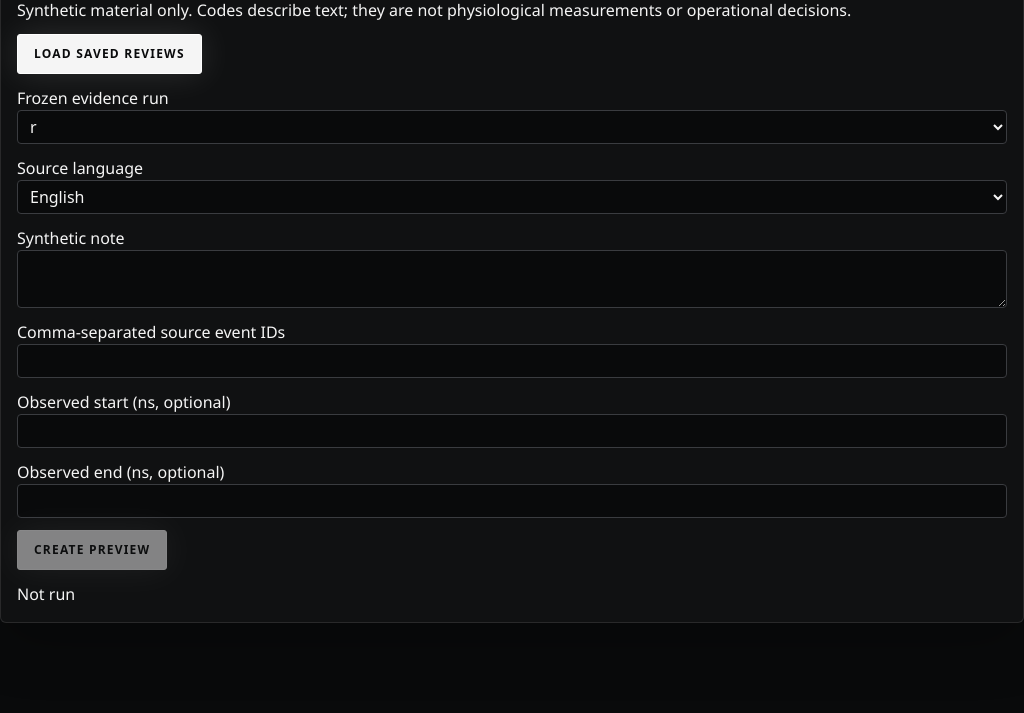
Scenario: experimental semantic review › removes exposed reference labels before changing reviewer
This screenshot has width=1024, height=713.
Step 1. Click the button "Load saved reviews" → (109, 54), box [17, 34, 202, 74]
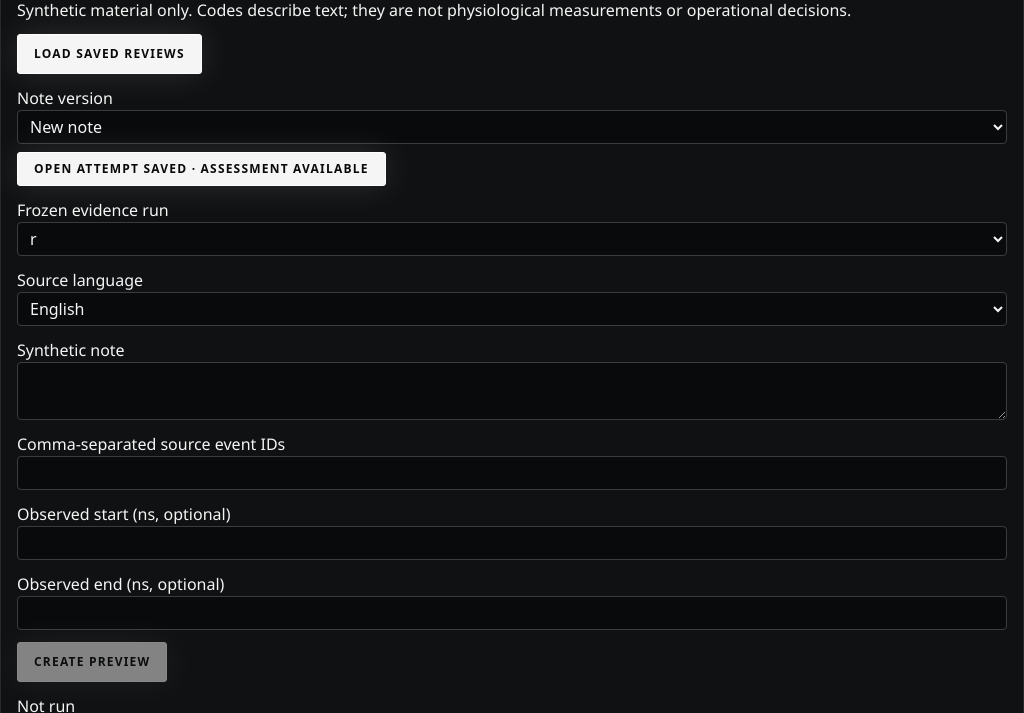
Step 2. Click the button "Open attempt saved · Assessment available" → (201, 169), box [17, 152, 386, 186]
(page scrolled)
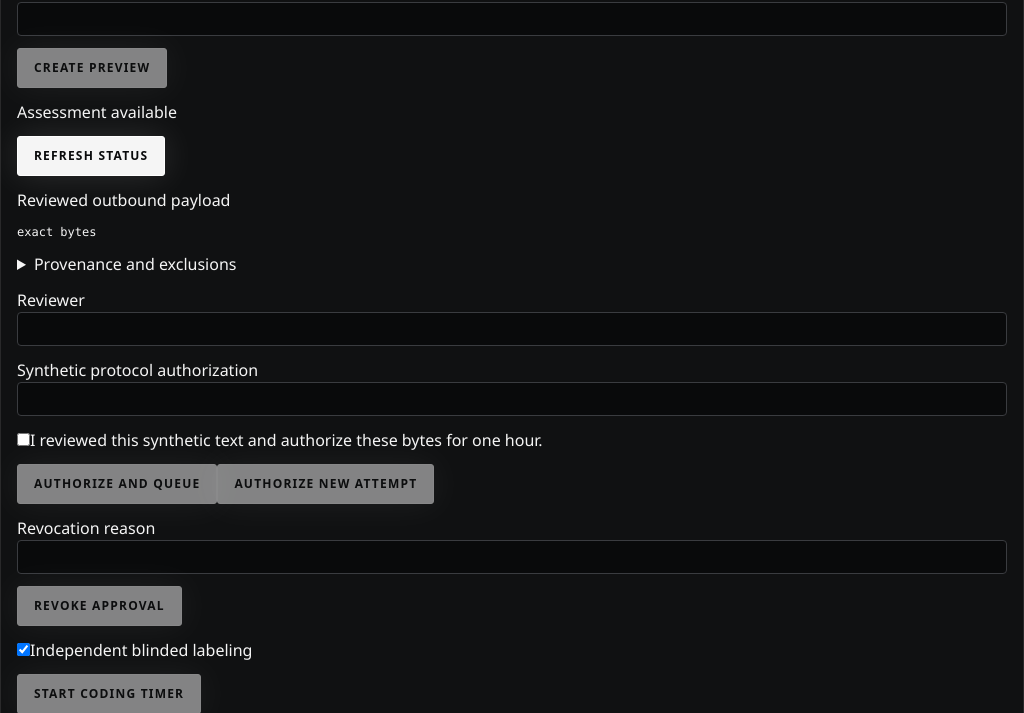
Step 3. Type "A" into the field labelled "Reviewer" → (512, 329), box [17, 312, 1007, 346]
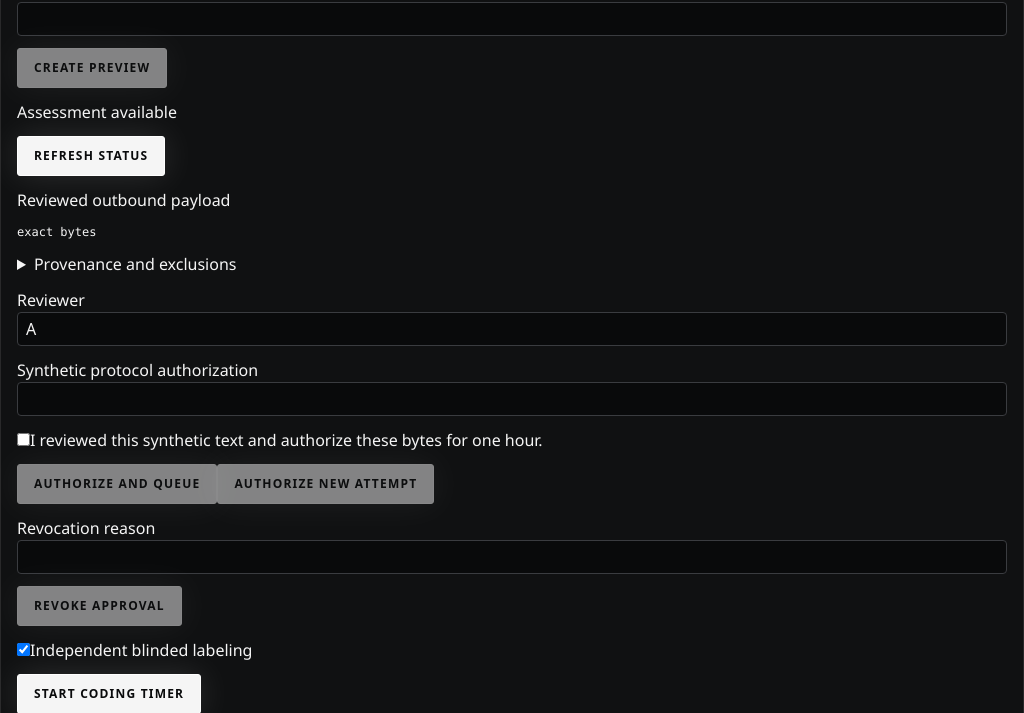
Step 4. Click the checkbox labelled "Independent blinded labeling" → (24, 650), box [17, 643, 30, 656]
(page scrolled)
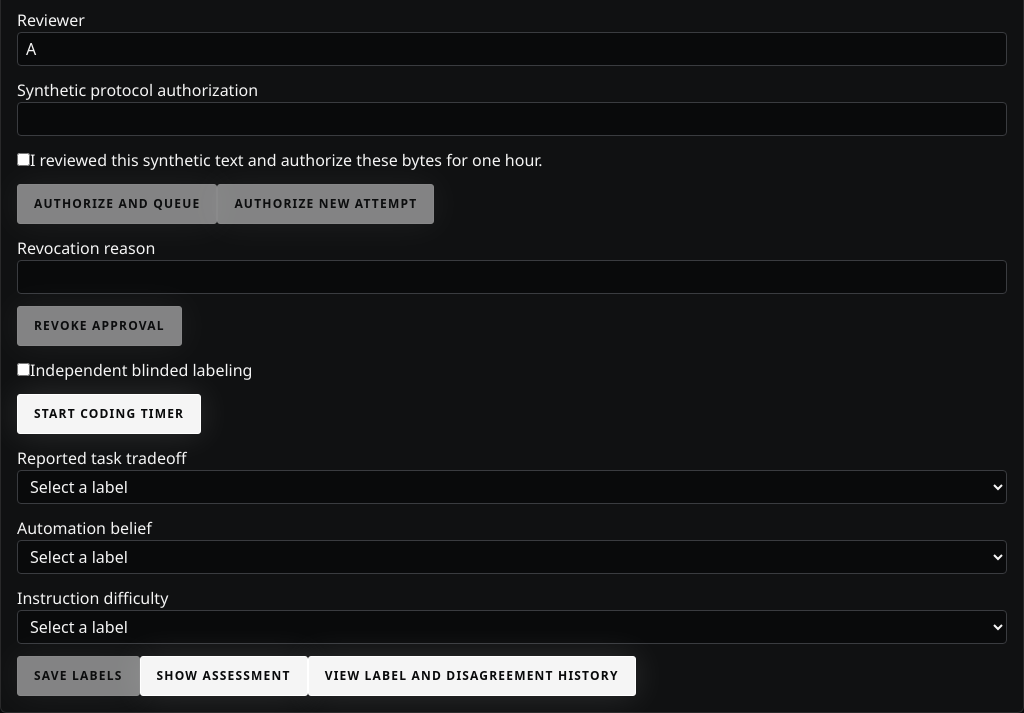
Step 5. Click the button "View label and disagreement history" → (472, 676), box [308, 656, 636, 696]
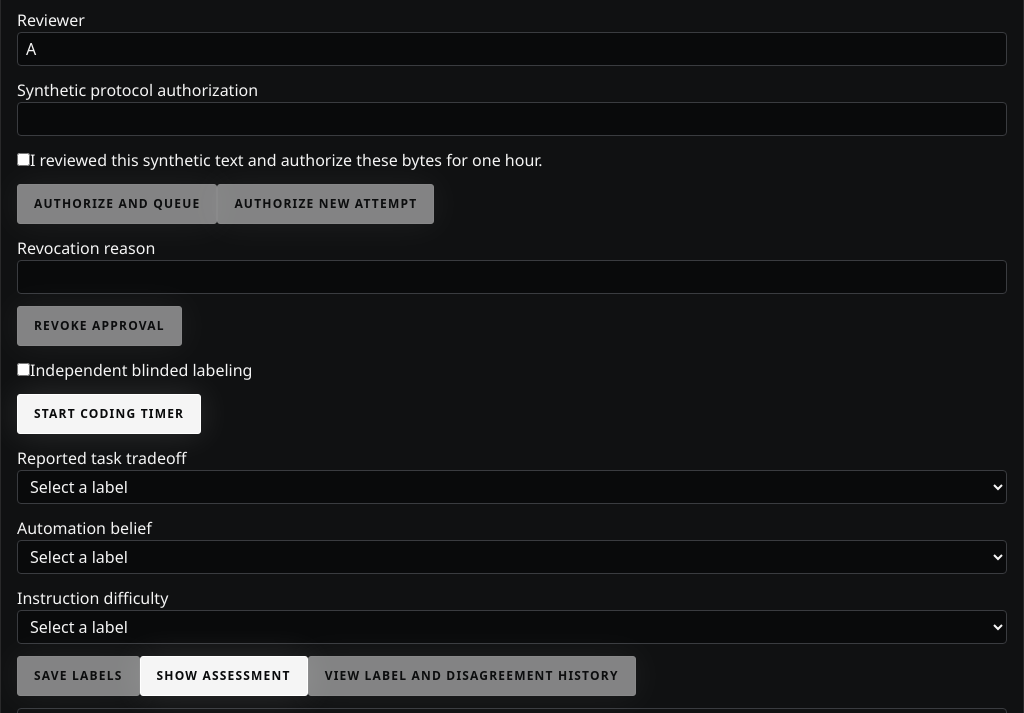
Step 6. Replace the text in the field labelled "Reviewer" with "B" → (512, 49), box [17, 32, 1007, 66]
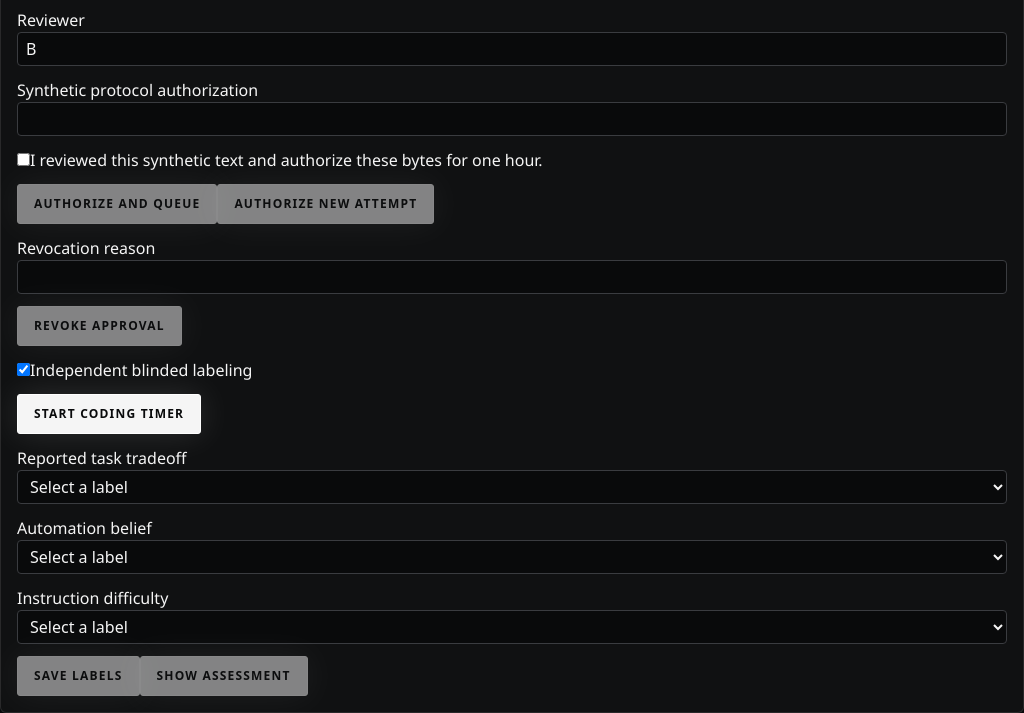
Result: the button "Show assessment" is disabled at [140, 656, 308, 696]
